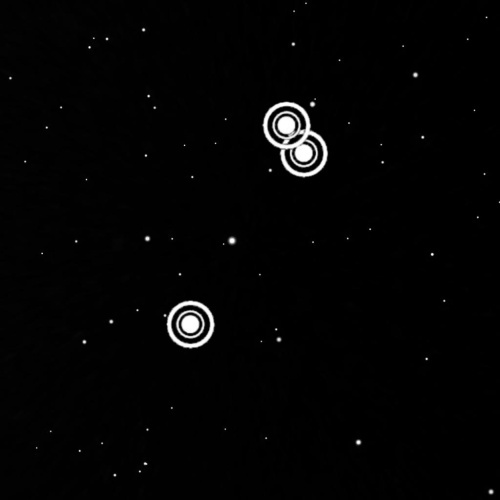canis_minor: (162, 95, 334, 356)
